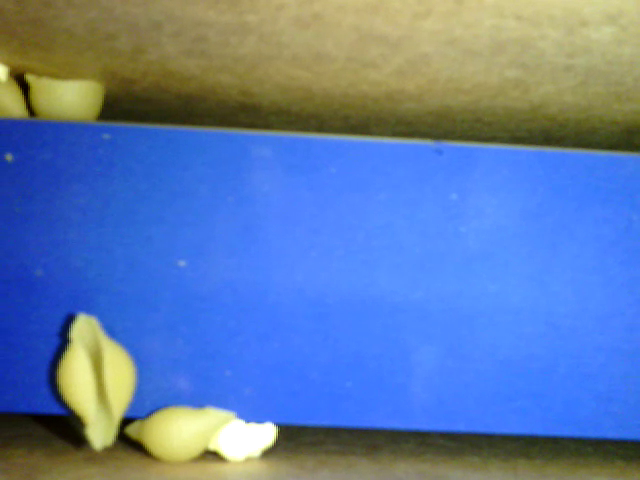shell: (50, 305, 140, 453), (119, 405, 239, 464), (24, 71, 107, 129)
